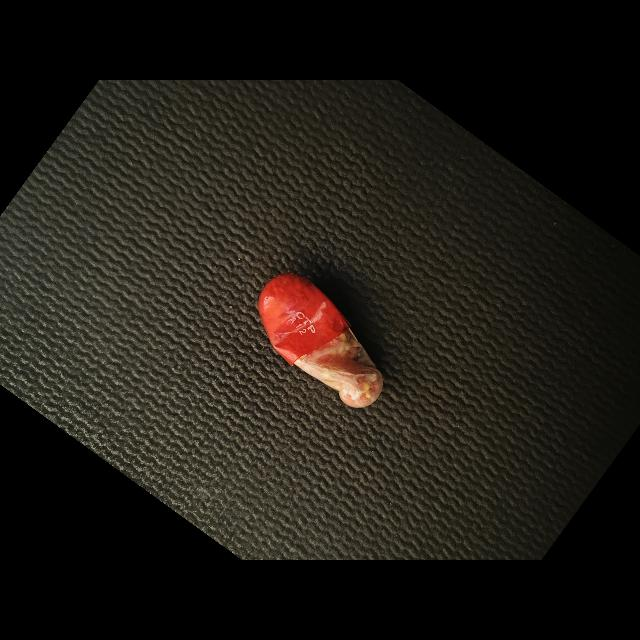Defective Capsule: (258, 274, 383, 408)
